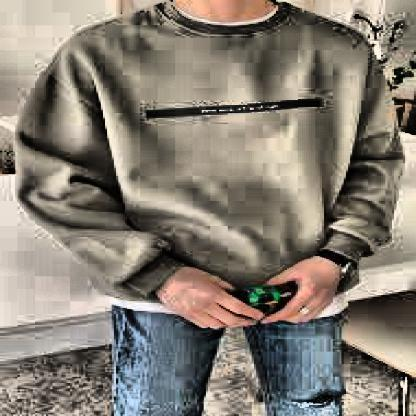sweater: (13, 1, 404, 302)
trousers: (109, 298, 350, 416)
